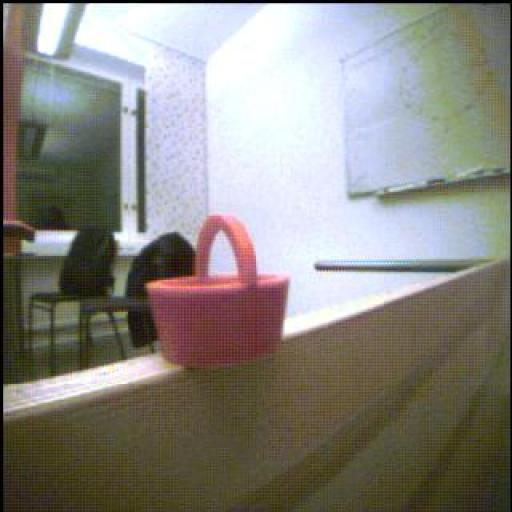Bucket: (147, 215, 291, 369)
